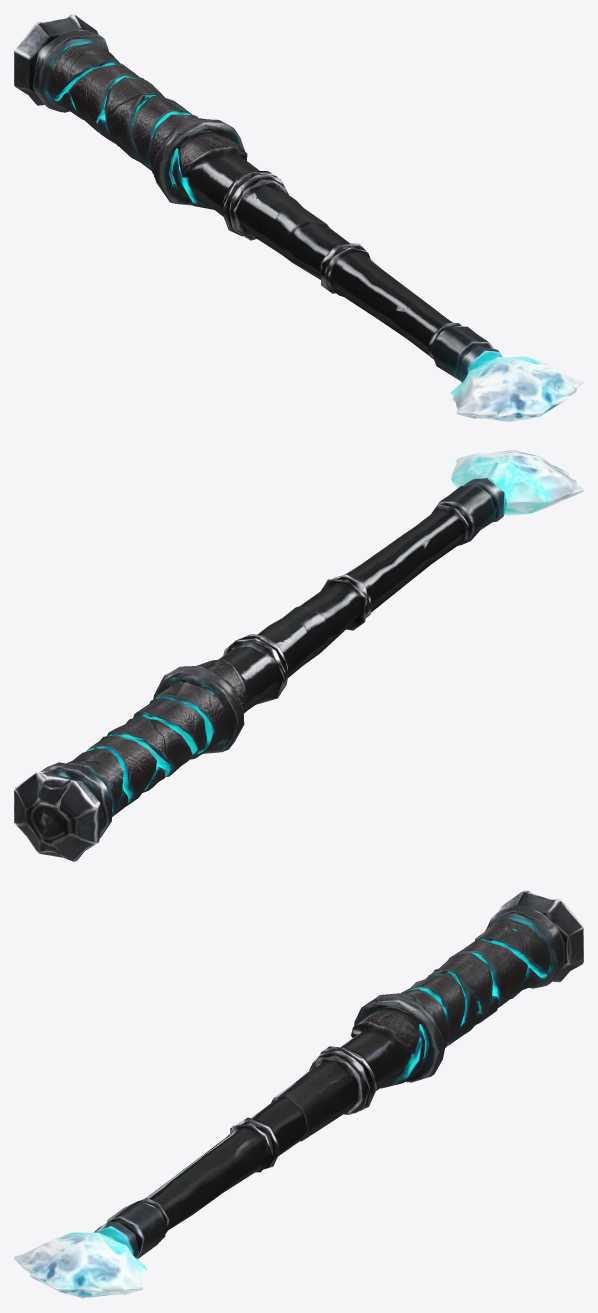
The model's file is wand.glb.
3 views of the same model, one above another, from view 1: azimuth 30°, elevation 25°; view 2: azimuth 150°, elevation 25°; view 3: azimuth 330°, elevation 25° (orthographic).
Visible parts, largest first — view 1: body; view 2: body; view 3: body.
Boxes of the visible parts, x1,y1,x2,y2 form: body: (14,14,583,421); body: (14,450,583,861); body: (14,890,583,1298).
Size of the model in its own units: 0.0624 by 0.0396 by 0.4193.
1 material, 1 textured.
